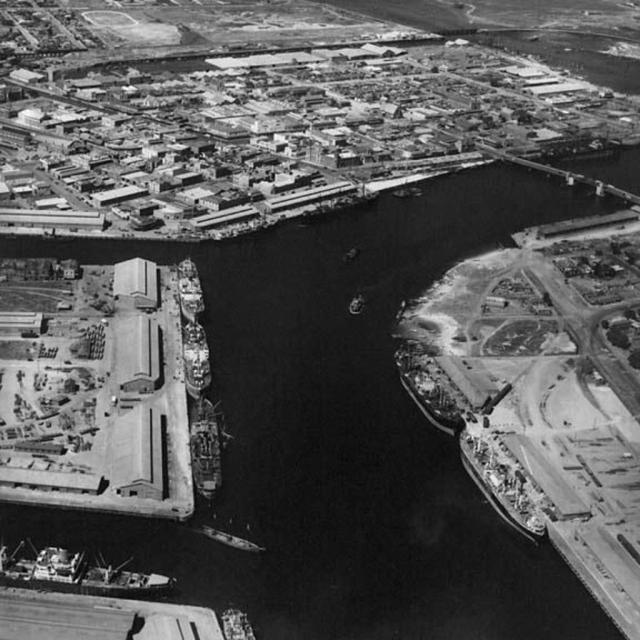Boat: (0, 537, 173, 591), (202, 522, 260, 549), (222, 601, 257, 639), (391, 183, 428, 199), (351, 294, 366, 316)
